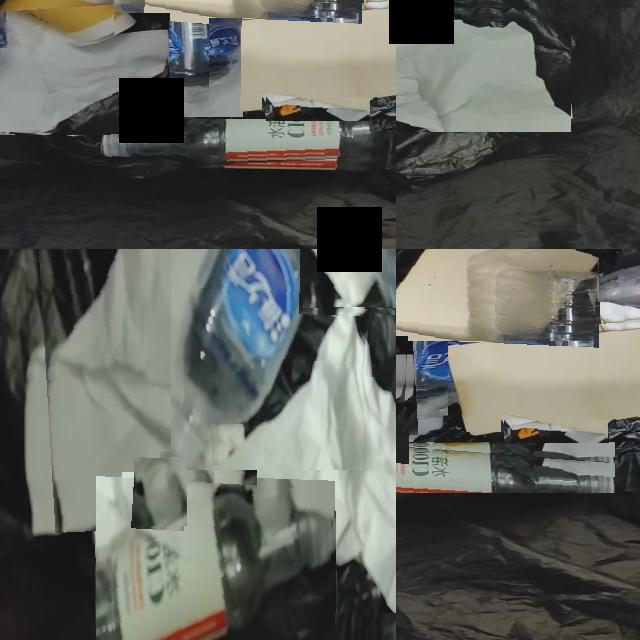bottle: (96, 483, 333, 640), (171, 249, 329, 470), (396, 261, 486, 436), (117, 0, 242, 116), (102, 119, 385, 164), (396, 447, 615, 493), (584, 266, 640, 312)
carton: (448, 329, 640, 432), (209, 9, 396, 111), (396, 249, 599, 341)
dixie_cup: (0, 0, 113, 47)
paper: (207, 308, 396, 613), (43, 249, 218, 533), (396, 11, 571, 132), (0, 13, 169, 134), (312, 249, 389, 308), (134, 458, 187, 526), (266, 93, 370, 121), (504, 415, 608, 443), (212, 424, 245, 466), (595, 302, 640, 324)
